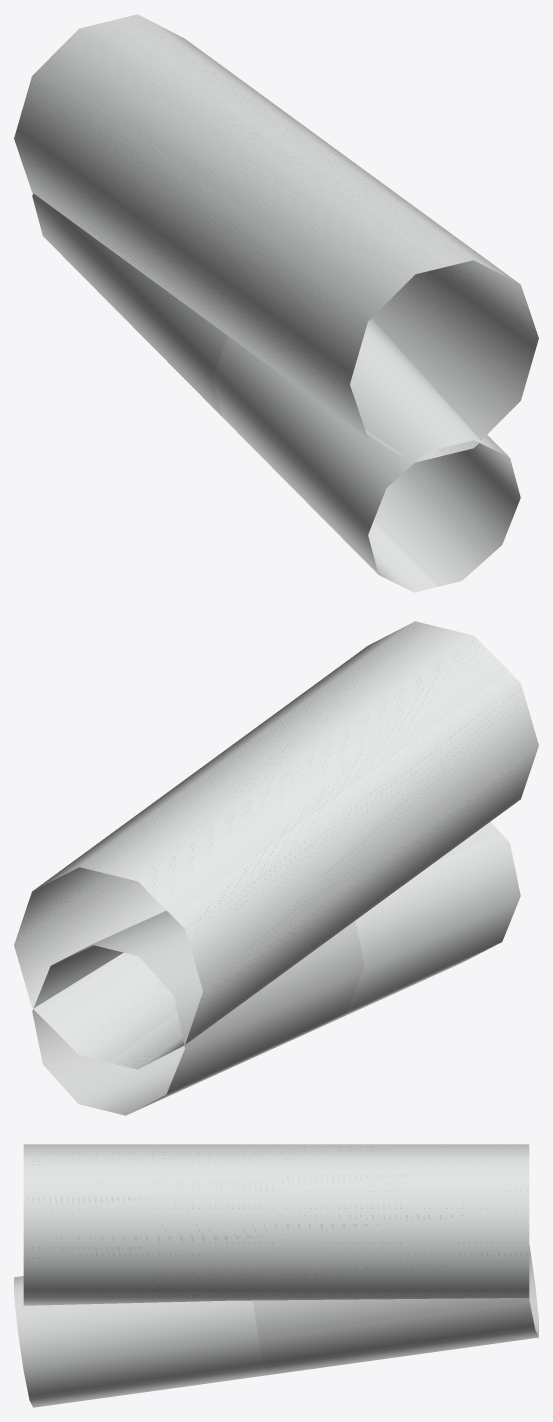
File: trusssignalarm_level8_c11.obj
The picture shows the model from 3 angles, top to bottom: view 1: azimuth 30°, elevation 25°; view 2: azimuth 150°, elevation 25°; view 3: azimuth 270°, elevation 25°; orthographic projection. The views are drawn at different scales.
Parts seen in each view (by area): view 1: trusssignalarm_level8_c11; view 2: trusssignalarm_level8_c11; view 3: trusssignalarm_level8_c11.
Part boxes in pixels (bbox=[...]): trusssignalarm_level8_c11: bbox=[14, 14, 538, 592]; trusssignalarm_level8_c11: bbox=[14, 621, 538, 1115]; trusssignalarm_level8_c11: bbox=[14, 1144, 538, 1407].
Size of the model in its own units: 0.325 by 0.5326 by 1.04.
